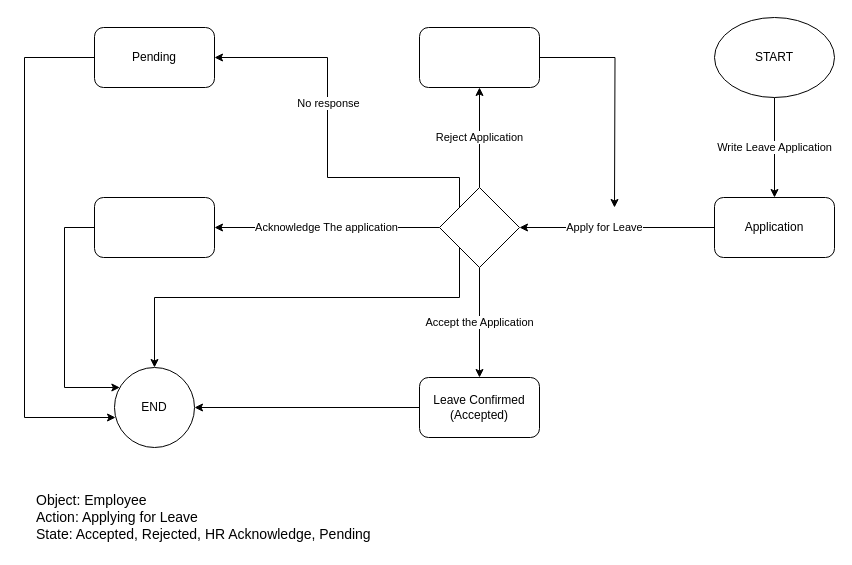
This 852x565 diagram has some shape labels left out. The centre of each missing label's shape, as x and y in pixels:
"Application rejected (Leave Cancel)" goes at (x=479, y=57).
"HR Acknowledgement" goes at (x=154, y=227).
